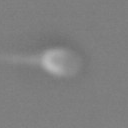normal: (1, 48, 44, 72)
